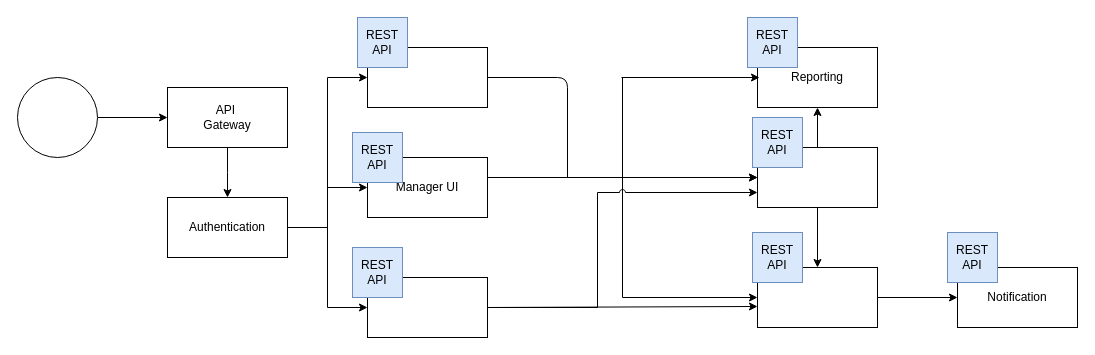
This 1095x355 diagram has some shape labels left out. The shapes that lost their labels are listed below. From the top down, each one's centre as x and y in pixels, then its label:
At pixel 427 77: "Administrator UI".
At pixel 57 117: "Client (Browser)".
At pixel 817 177: "Time Management".
At pixel 427 307: "Employee UI".
At pixel 817 297: "Shifting".
